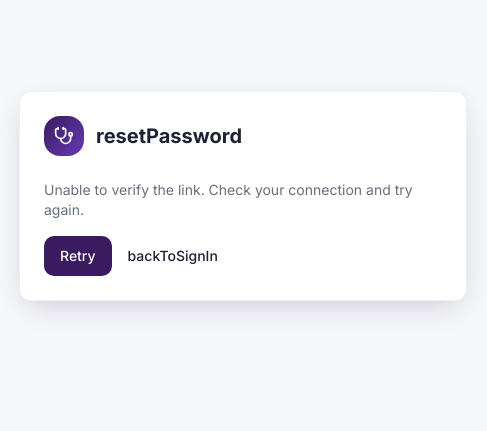
password recovery screen › shows a recoverable error when session verification throws
expect the message shows "Unable to verify": met, box [44,181,413,218]
Click the button "Retry".
click(78, 256)  # box [44,236,112,276]
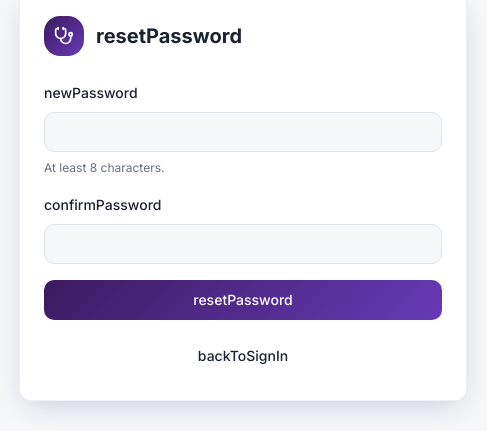
expect the password field labelled "newPassword" is shown: met, box [44,112,442,152]
